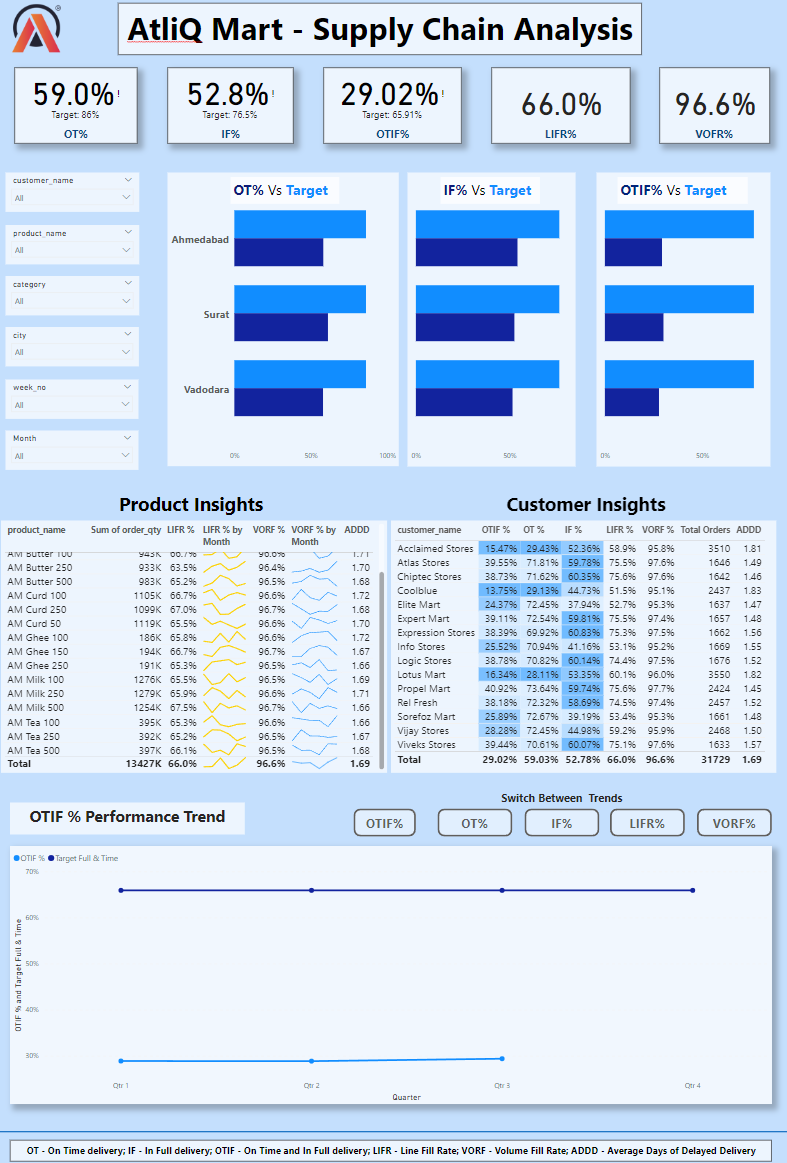

This screenshot's page, from the dashboard's own definition file:
{"tool":"powerbi","page":{"name":"Home","canvas":[1350,2000],"ordinal":0},"visuals":[{"type":"kpi","fields":{"Indicator":["All Measures.OT %"],"Goal":["All Measures.Target On_time"],"TrendLine":["fact_order_lines.customer_id"]},"box":[28.8,116,210,130],"z":0},{"type":"actionButton","title":"VORF%","box":[1193.7,1382.2,127.8,47.8],"z":0,"group":"g3"},{"type":"kpi","fields":{"TrendLine":["fact_order_lines.customer_id"],"Indicator":["All Measures.OTIF %"],"Goal":["All Measures.Target Full & Time"]},"box":[555.6,116,236.2,130],"z":1000},{"type":"actionButton","title":"LIFR%","box":[1046.2,1382.2,127.8,47.8],"z":1000,"group":"g3"},{"type":"card","fields":{"Values":["All Measures.LIFR %"]},"box":[842.8,116,237.5,130],"z":2000},{"type":"actionButton","title":"IF%","box":[898.7,1382.2,127.8,47.8],"z":2000,"group":"g3"},{"type":"card","fields":{"Values":["All Measures.VORF %"]},"box":[1131.2,116,188.8,130],"z":3000},{"type":"actionButton","title":"OT%","box":[751.2,1382.2,127.8,47.8],"z":3000,"group":"g3"},{"type":"slicer","fields":{"Values":["dim_customers.customer_name"]},"box":[13.8,295,228.8,67.5],"z":4000},{"type":"textbox","title":"OTIF% T","box":[20.7,1371.1,401.1,54.4],"z":4000,"group":"g2"},{"type":"actionButton","title":"OTIF%","box":[607.4,1382.4,106.7,47.8],"z":4000,"group":"g3"},{"type":"lineChart","fields":{"Category":["dim_date.mmm_yy.Variation.Date Hierarchy.Quarter","dim_date.mmm_yy.Variation.Date Hierarchy.Month"],"Y":["All Measures.OTIF %","All Measures.Target Full & Time"]},"box":[20.7,1446.7,1302.2,441.1],"z":4000,"group":"g1"},{"type":"slicer","fields":{"Values":["dim_products.product_name"]},"box":[13.8,383.6,228.8,67],"z":5000},{"type":"slicer","fields":{"Values":["dim_products.category"]},"box":[13.8,471.6,228.8,67],"z":6000},{"type":"slicer","fields":{"Values":["dim_customers.city"]},"box":[13.8,559.6,228,67],"z":7000},{"type":"slicer","fields":{"Values":["dim_date.week_no"]},"box":[13.8,647.7,227.5,67.5],"z":8000},{"type":"clusteredBarChart","fields":{"Category":["dim_customers.city"],"Y":["All Measures.Target On_time","All Measures.OT %"]},"box":[290,295.6,395.6,502.2],"z":9000},{"type":"clusteredBarChart","fields":{"Category":["dim_customers.city"],"Y":["All Measures.Target In_full","All Measures.IF %"]},"box":[698.8,295,287.5,502.5],"z":10000},{"type":"slicer","fields":{"Values":["dim_date.date.Variation.Date Hierarchy.Month"]},"box":[13.8,736.2,227.5,67.5],"z":11000},{"type":"image","box":[0,0,133.8,95],"z":12000},{"type":"textbox","box":[206.2,6.2,895,88.8],"z":13000},{"type":"textbox","box":[397.5,302.5,186.2,46.2],"z":14000},{"type":"textbox","box":[757.5,302.5,170,46.2],"z":15000},{"type":"clusteredBarChart","fields":{"Category":["dim_customers.city"],"Y":["All Measures.Target In_full","All Measures.OTIF %"]},"box":[1022.5,295,297.5,502.5],"z":16000},{"type":"tableEx","fields":{"Values":["dim_products.product_name","Sum(fact_order_lines.order_qty)","All Measures.LIFR %","SparklineData(All Measures.LIFR %_[dim_date.date.Variation.Date Hierarchy.Month])","All Measures.VORF %","SparklineData(All Measures.VORF %_[dim_date.date.Variation.Date Hierarchy.Month])","All Measures.ADDD"]},"box":[5.8,889.3,660,431.1],"z":17000},{"type":"tableEx","fields":{"Values":["dim_customers.customer_name","All Measures.OTIF %","All Measures.OT %","All Measures.IF %","All Measures.LIFR %","All Measures.VORF %","All Measures.Total Orders","All Measures.ADDD"]},"box":[672.5,889,658.8,431.2],"z":18000},{"type":"textbox","box":[0,832.8,660,56.2],"z":19000},{"type":"textbox","box":[672.5,832.8,666.2,56.2],"z":20000},{"type":"textbox","box":[1060,302.5,222.5,46.2],"z":21000},{"type":"kpi","fields":{"Goal":["All Measures.Target In_full"],"TrendLine":["fact_order_lines.customer_id"],"Indicator":["All Measures.IF %"]},"box":[289.7,116,215,130],"z":22000},{"type":"group","id":"g1","title":"Chart Grp","box":[20.7,1446.7,1302.2,441.1],"z":23000},{"type":"group","id":"g2","title":"Titles Grp","box":[20.7,1366.7,401.1,58.9],"z":24000},{"type":"group","id":"g3","title":"Buttons Grp","box":[607.4,1382.2,714.4,47.8],"z":25000},{"type":"textbox","box":[21.1,1948.9,1302.2,36.7],"z":25001},{"type":"shape","box":[0,1921.1,1350,27.8],"z":25002},{"type":"textbox","box":[28.9,214.4,210,45.6],"z":25003},{"type":"textbox","box":[290,214.4,215.6,45.6],"z":25004},{"type":"textbox","box":[555.6,214.4,236.7,45.6],"z":25005},{"type":"textbox","box":[844.4,214.4,236.7,45.6],"z":25006},{"type":"textbox","box":[1131.1,215.6,186.7,45.6],"z":25007},{"type":"textbox","box":[607.8,1345.6,712.2,36.7],"z":25008}]}

Visuals, with their boxes in screenshot pixels (x1, y1, x2, y2), scaled from the page's 1350x2000 canvas onto the 787x1163 screenshot:
kpi - All Measures.OT % x All Measures.Target On_time: [x1=17, y1=67, x2=139, y2=143]
"VORF%" actionButton: [x1=696, y1=804, x2=770, y2=832]
kpi - fact_order_lines.customer_id x All Measures.OTIF %: [x1=324, y1=67, x2=462, y2=143]
"LIFR%" actionButton: [x1=610, y1=804, x2=684, y2=832]
card - All Measures.LIFR %: [x1=491, y1=67, x2=630, y2=143]
"IF%" actionButton: [x1=524, y1=804, x2=598, y2=832]
card - All Measures.VORF %: [x1=659, y1=67, x2=770, y2=143]
"OT%" actionButton: [x1=438, y1=804, x2=512, y2=832]
slicer - dim_customers.customer_name: [x1=8, y1=172, x2=141, y2=211]
"OTIF% T" textbox: [x1=12, y1=797, x2=246, y2=829]
"OTIF%" actionButton: [x1=354, y1=804, x2=416, y2=832]
lineChart - dim_date.mmm_yy.Variation.Date Hierarchy.Quarter x dim_date.mmm_yy.Variation.Date Hierarchy.Month: [x1=12, y1=841, x2=771, y2=1098]
slicer - dim_products.product_name: [x1=8, y1=223, x2=141, y2=262]
slicer - dim_products.category: [x1=8, y1=274, x2=141, y2=313]
slicer - dim_customers.city: [x1=8, y1=325, x2=141, y2=364]
slicer - dim_date.week_no: [x1=8, y1=377, x2=141, y2=416]
clusteredBarChart - dim_customers.city x All Measures.Target On_time: [x1=169, y1=172, x2=400, y2=464]
clusteredBarChart - dim_customers.city x All Measures.Target In_full: [x1=407, y1=172, x2=575, y2=464]
slicer - dim_date.date.Variation.Date Hierarchy.Month: [x1=8, y1=428, x2=141, y2=467]
image: [x1=0, y1=0, x2=78, y2=55]
textbox: [x1=120, y1=4, x2=642, y2=55]
textbox: [x1=232, y1=176, x2=340, y2=203]
textbox: [x1=442, y1=176, x2=541, y2=203]
clusteredBarChart - dim_customers.city x All Measures.Target In_full: [x1=596, y1=172, x2=770, y2=464]
tableEx - dim_products.product_name x Sum(fact_order_lines.order_qty): [x1=3, y1=517, x2=388, y2=768]
tableEx - dim_customers.customer_name x All Measures.OTIF %: [x1=392, y1=517, x2=776, y2=768]
textbox: [x1=0, y1=484, x2=385, y2=517]
textbox: [x1=392, y1=484, x2=780, y2=517]
textbox: [x1=618, y1=176, x2=748, y2=203]
kpi - All Measures.Target In_full x fact_order_lines.customer_id: [x1=169, y1=67, x2=294, y2=143]
"Chart Grp" group: [x1=12, y1=841, x2=771, y2=1098]
"Titles Grp" group: [x1=12, y1=795, x2=246, y2=829]
"Buttons Grp" group: [x1=354, y1=804, x2=771, y2=832]
textbox: [x1=12, y1=1133, x2=771, y2=1155]
shape: [x1=0, y1=1117, x2=786, y2=1133]
textbox: [x1=17, y1=125, x2=139, y2=151]
textbox: [x1=169, y1=125, x2=295, y2=151]
textbox: [x1=324, y1=125, x2=462, y2=151]
textbox: [x1=492, y1=125, x2=630, y2=151]
textbox: [x1=659, y1=125, x2=768, y2=152]
textbox: [x1=354, y1=782, x2=770, y2=804]
